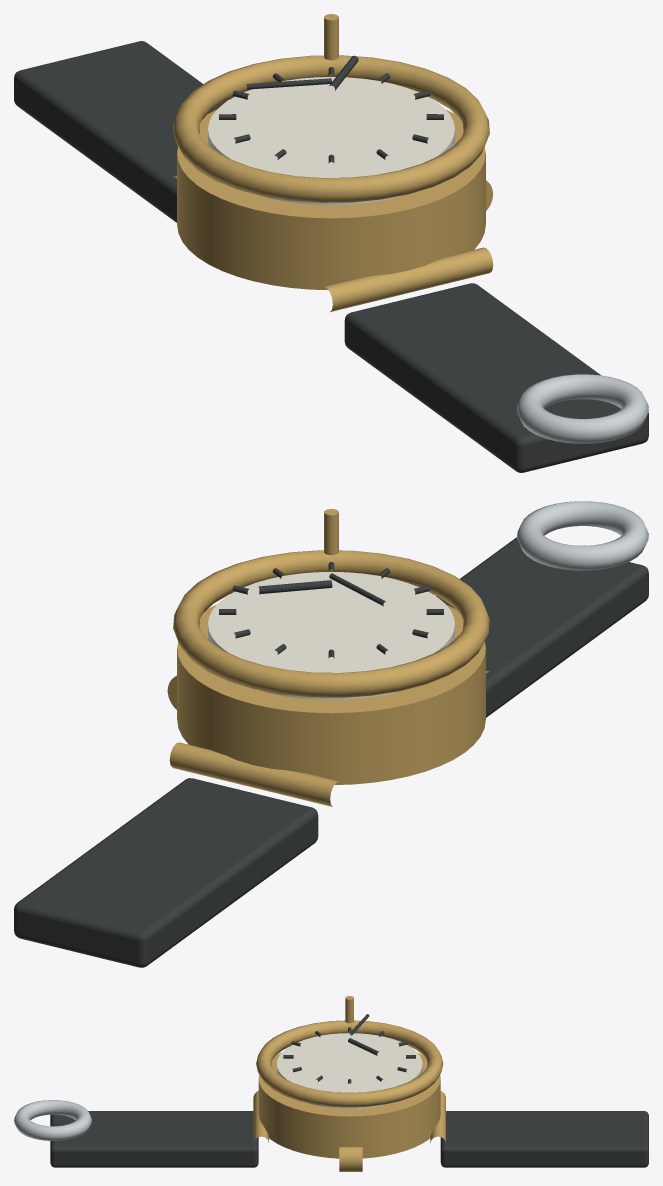
File: clockmaker-and-watch-repair-wristwatch-09c7ebe4__30636.glb
3 renders of one model, top to bottom at view 1: azimuth 30°, elevation 25°; view 2: azimuth 150°, elevation 25°; view 3: azimuth 270°, elevation 25°, orthographic. The views are drawn at different scales.
Visible parts, largest first — view 1: wristwatch; view 2: wristwatch; view 3: wristwatch.
Boxes of the visible parts, x1,y1,x2,y2 form: wristwatch: [14, 14, 648, 472]; wristwatch: [14, 501, 648, 967]; wristwatch: [14, 996, 648, 1171].
Bounding box in the file's own units: 0.076 × 0.0645 × 0.244.
